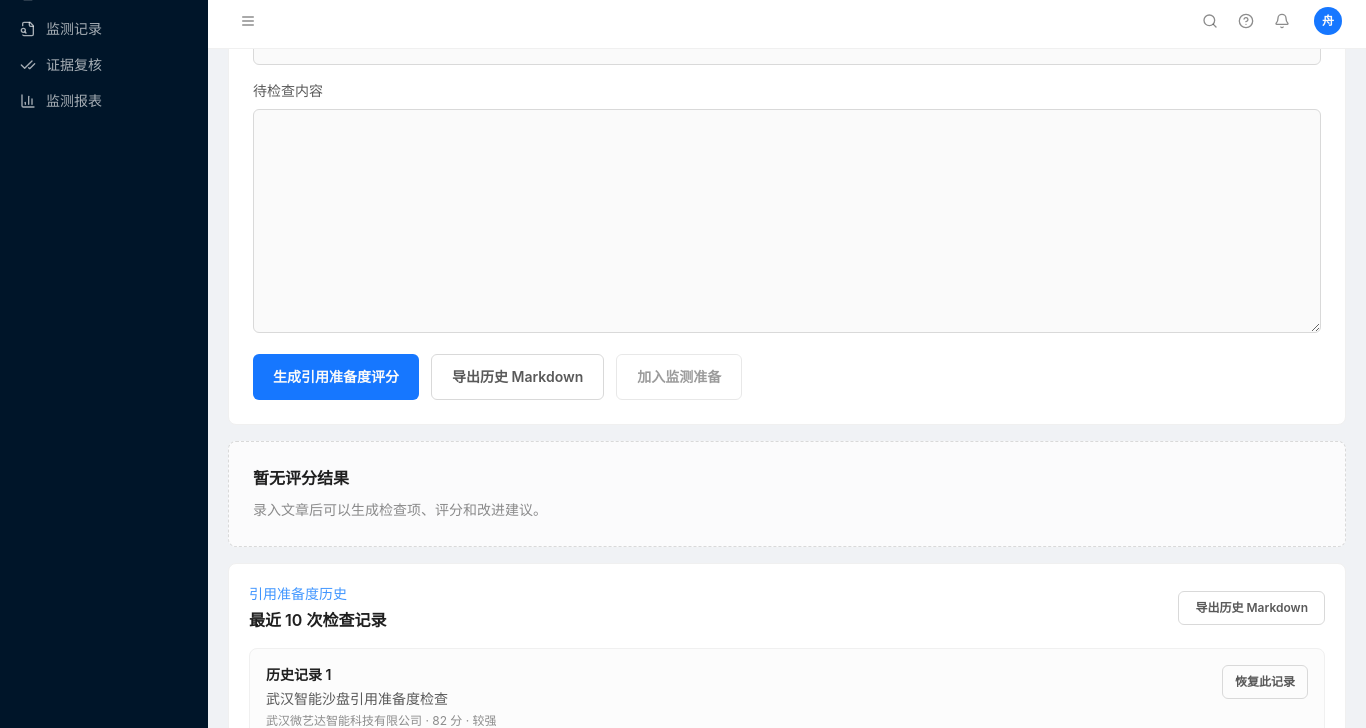
Test: P7 AI 引用准备度页面 › 缺少必填项时显示错误状态
The width and height of the screenshot is (1366, 728).
(page scrolled)
What coordinates should you click on to do the following:
click the button "生成引用准备度评分"
I would click on:
 (336, 377)
Its box is 253,354 -> 419,400.
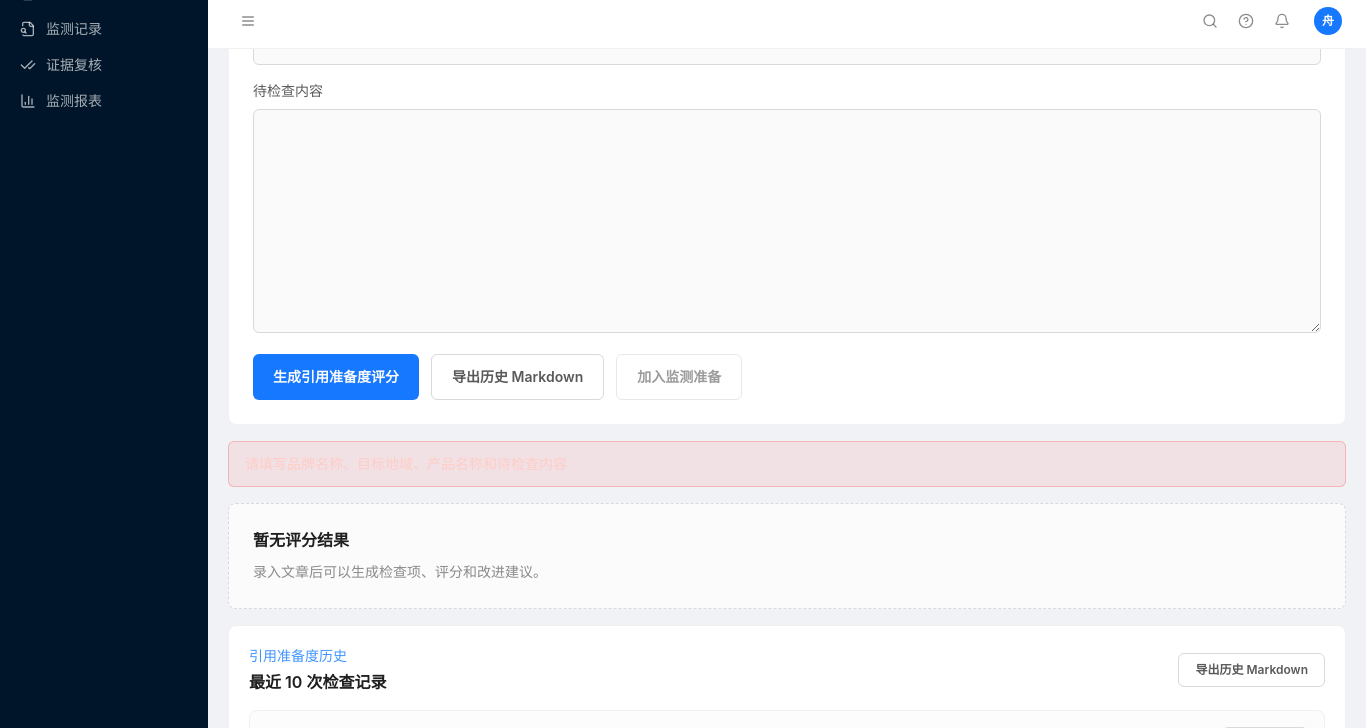
Result: the message reads "请填写品牌名称、目标地域、产品名称和待检查内容" at 245,455 -> 567,472
